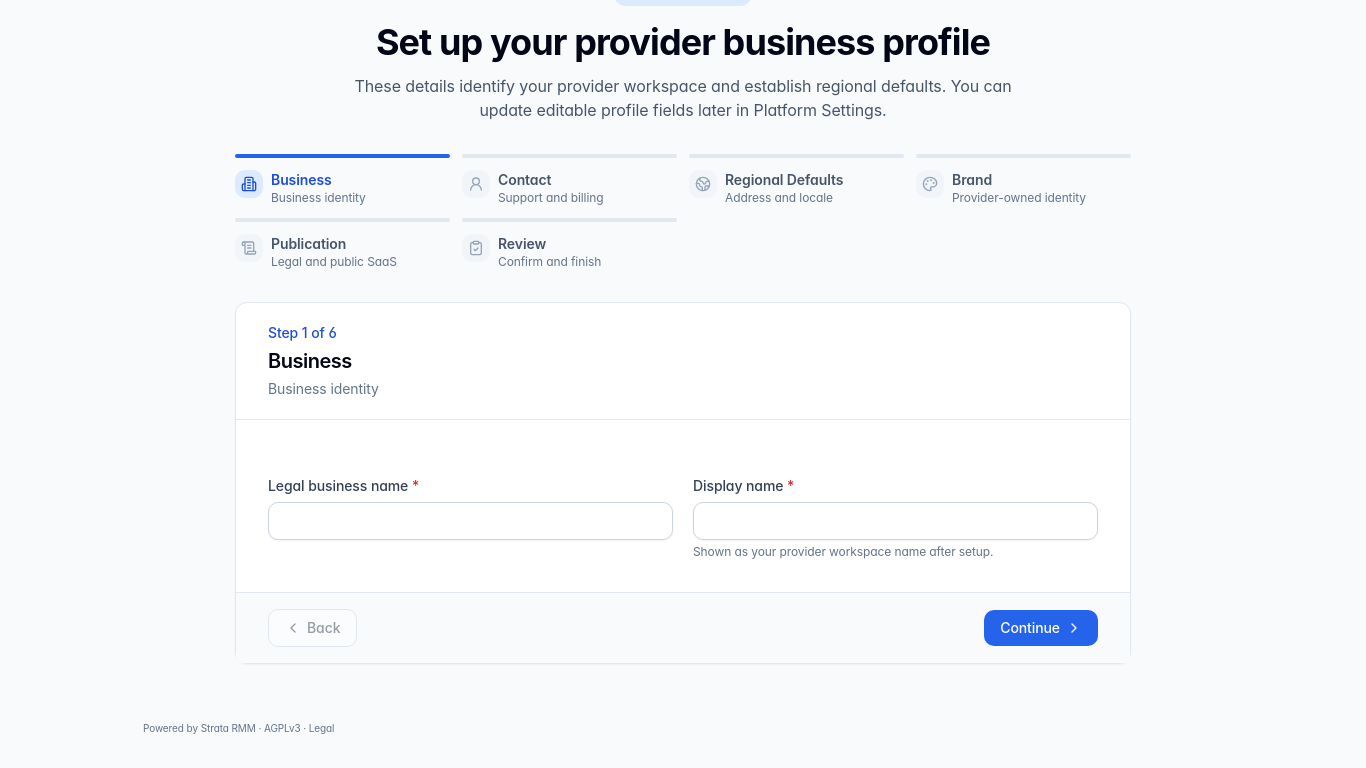
it: provider setup wizard › shows inline validation and an accessible error summary
(page scrolled)
Check: the heading "Set up your provider business profile" is shown, box [376,20,990,64]
What coordinates should you click on to do the following:
click the button "Continue"
I would click on:
 (1041, 628)
Its box is [984,610,1098,646].
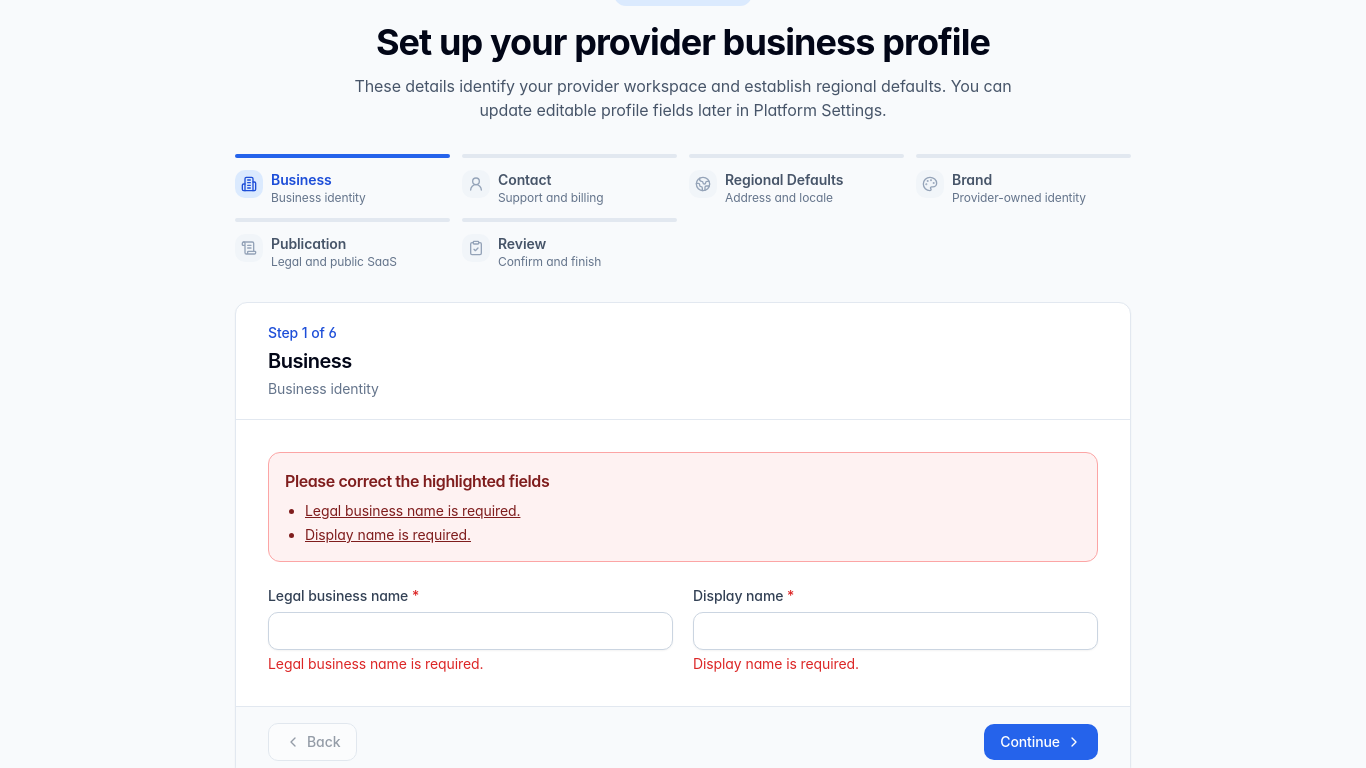
Check: the message shows "Please correct the highlighted fields", box [285,471,549,491]
Check: the message shows "Legal business name is required", box [305,502,520,519]
